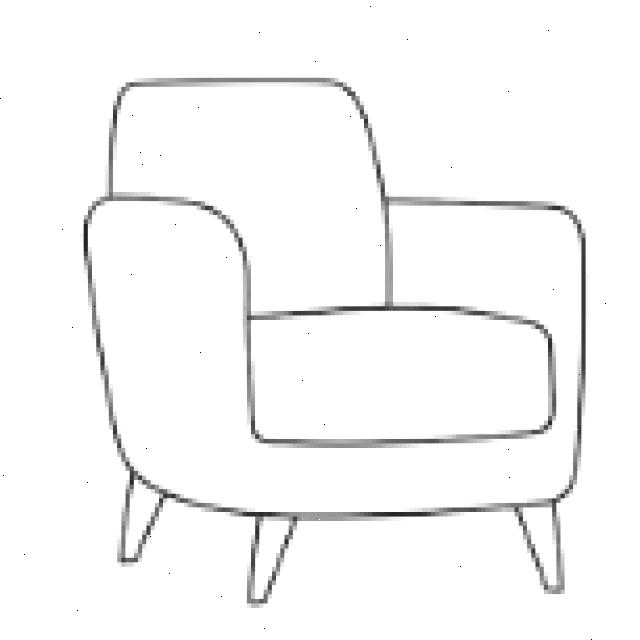Armrest: (84, 196, 255, 515), (384, 200, 584, 424)
Backrest: (108, 74, 391, 316)
Leg_Structure: (113, 467, 570, 611)
Seat: (243, 302, 558, 451)
